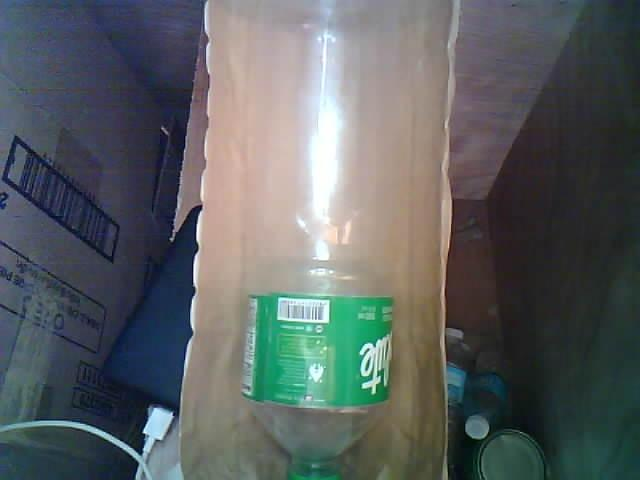large_bottle: (242, 0, 399, 480)
